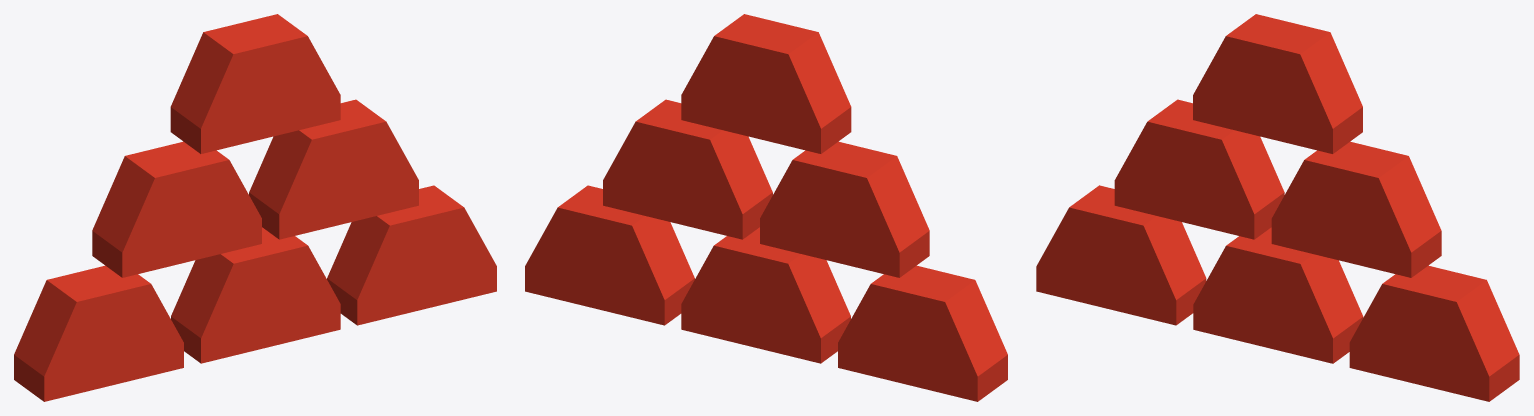
File: Icon_Gold.fbx
The picture shows the model from 3 angles, left to right: view 1: azimuth 30°, elevation 25°; view 2: azimuth 150°, elevation 25°; view 3: azimuth 330°, elevation 25°; orthographic projection.
Parts seen in each view (by area): view 1: Icon_Gold; view 2: Icon_Gold; view 3: Icon_Gold.
Part boxes in pixels (x1,y1,x2,y2): Icon_Gold: [14, 14, 496, 401]; Icon_Gold: [525, 14, 1007, 401]; Icon_Gold: [1036, 14, 1519, 401].
Bounding box in the file's own units: 104 × 66.45 × 12.06.
